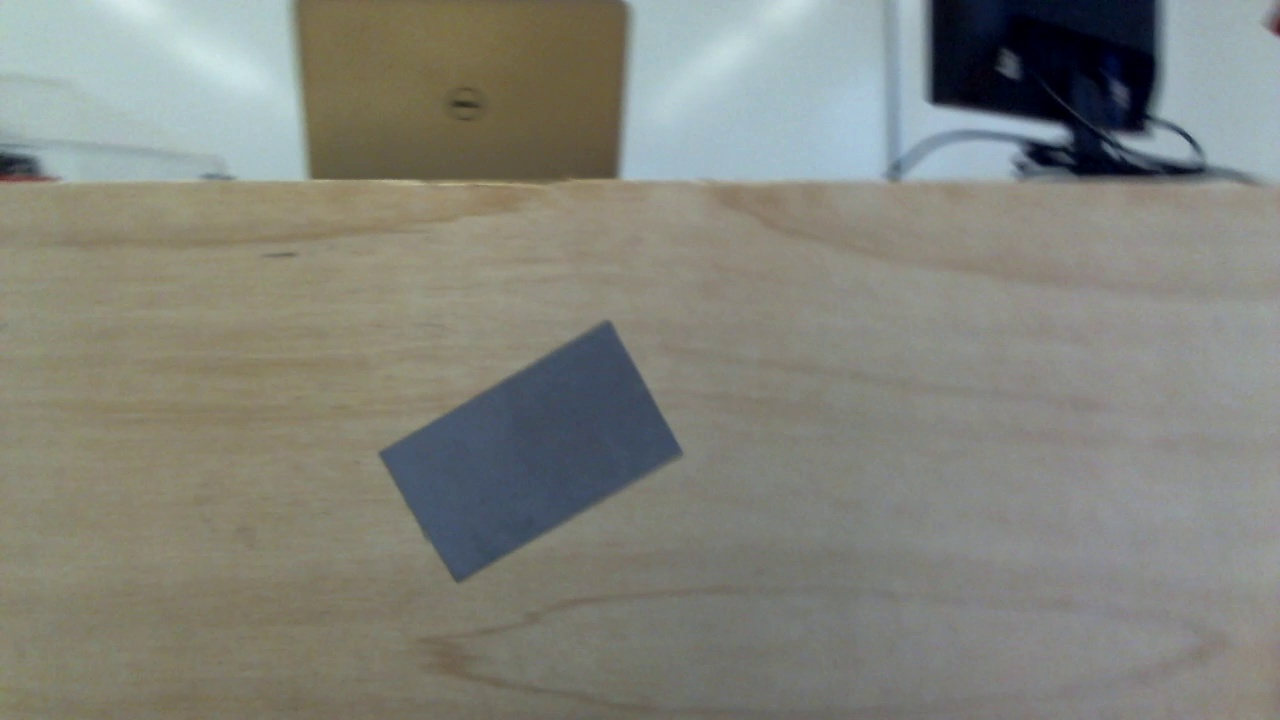Tape: (380, 321, 686, 585)
